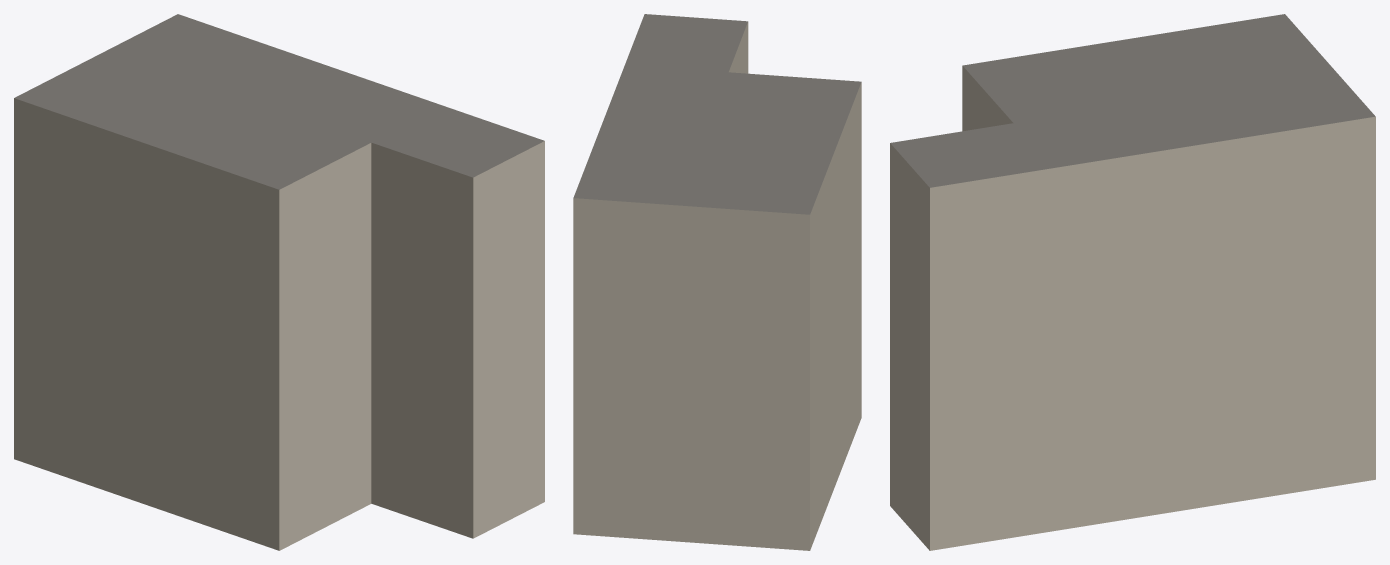
3 views of the same model, side by side, from view 1: azimuth 30°, elevation 25°; view 2: azimuth 150°, elevation 25°; view 3: azimuth 270°, elevation 25° (orthographic). The views are drawn at different scales.
Parts seen in each view (by area): view 1: HP-w1198568463; view 2: HP-w1198568463; view 3: HP-w1198568463.
Part boxes in pixels (<box>): HP-w1198568463: <box>14,14,544,550</box>; HP-w1198568463: <box>573,14,861,550</box>; HP-w1198568463: <box>890,14,1375,550</box>.
Bounding box in the file's own units: 18.49 × 18 × 21.82.
